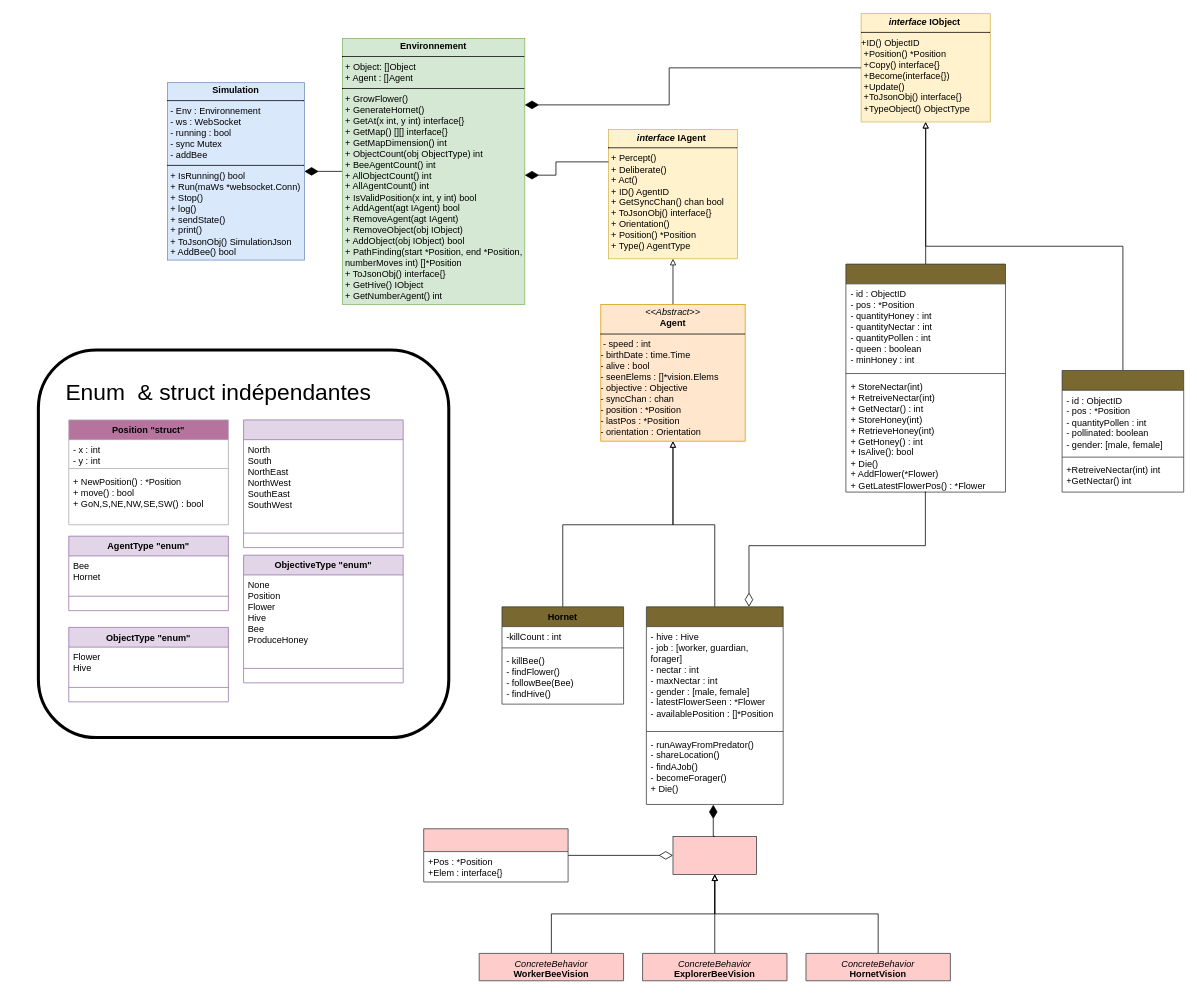
Some shapes in this 1197 by 994 pixel diagram are drawn without their labels. The shapes that lost their labels are listed below. From the top down, each one's box as (x1, y1, x2, y2) in pixels, then its label:
(845, 263, 1005, 492): Hive
(1061, 370, 1184, 492): Flower
(243, 419, 403, 548): Orientation "enum"
(646, 606, 783, 804): Bee
(423, 828, 568, 882): SeenElem
(672, 836, 757, 874): <<interface>> VisionFunc
